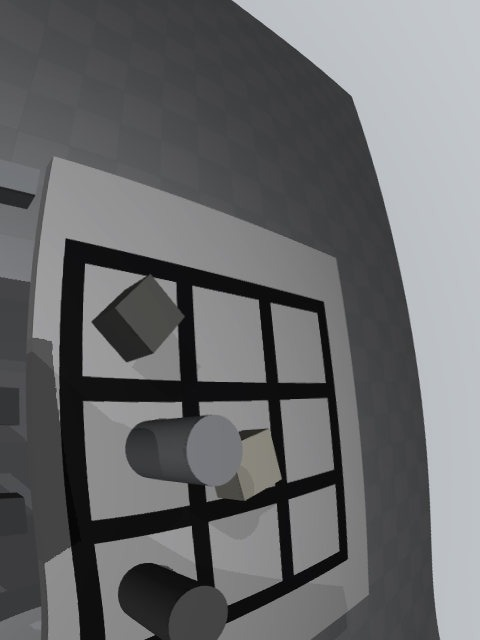can: (125, 415, 243, 487)
cube: (92, 273, 185, 362)
cylinder: (118, 563, 228, 640)
foam: (215, 429, 282, 501)
